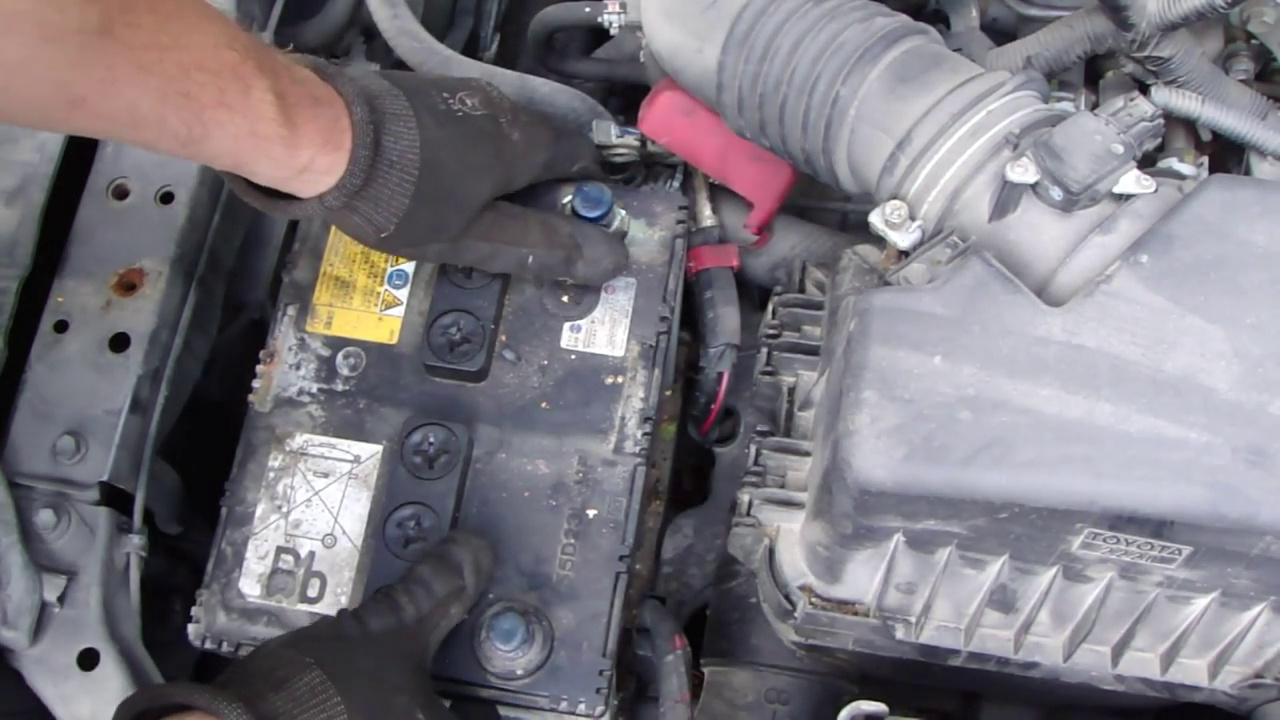battery: (189, 140, 683, 693)
neg_disconnected: (459, 565, 583, 687)
neg_touched: (356, 545, 551, 717)
pos_disconnected: (548, 110, 791, 256)
pos_touched: (510, 102, 630, 282)
